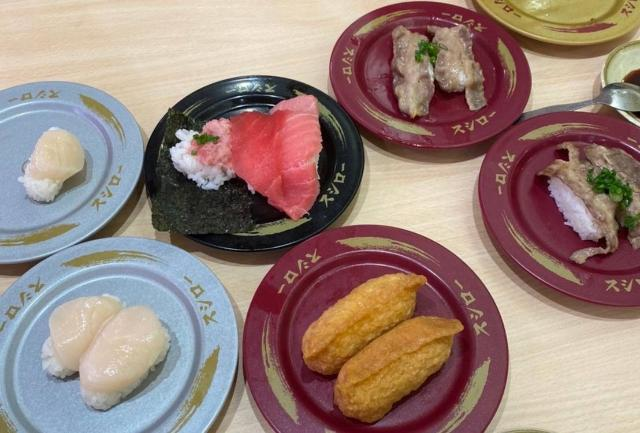janback: (144, 50, 363, 249)
jangold: (471, 0, 640, 65)
janred: (271, 222, 471, 421), (456, 110, 640, 294), (322, 10, 536, 134)
janwhite: (0, 234, 248, 433), (5, 78, 149, 230)
